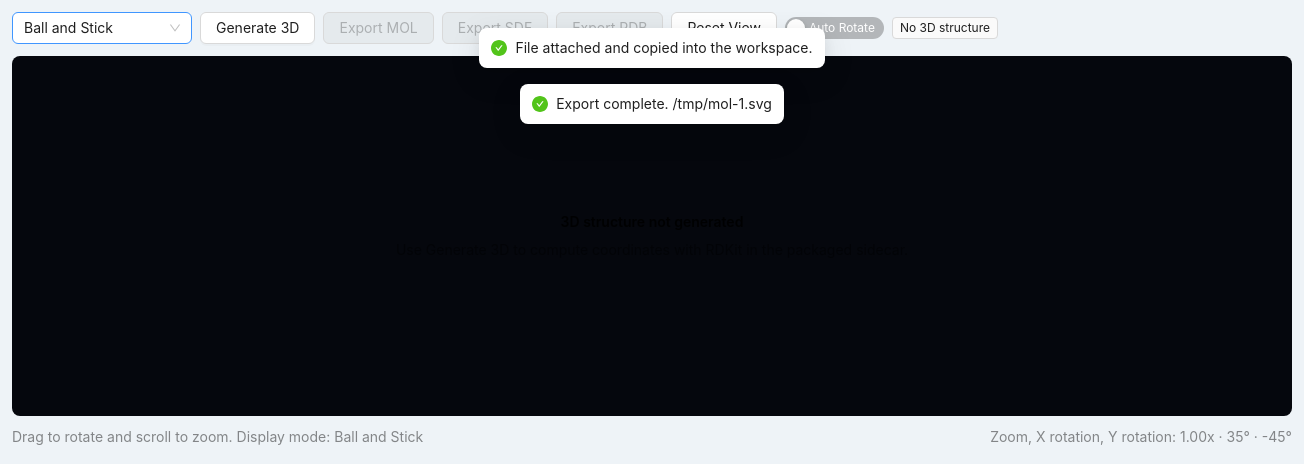
Test: MoleculeViewer3D › renders only after the sidecar returns readable coordinates
What coordinates should you click on to do the following:
click the button "Generate 3D"
I would click on:
 (258, 28)
Its box is [200,12,316,44].
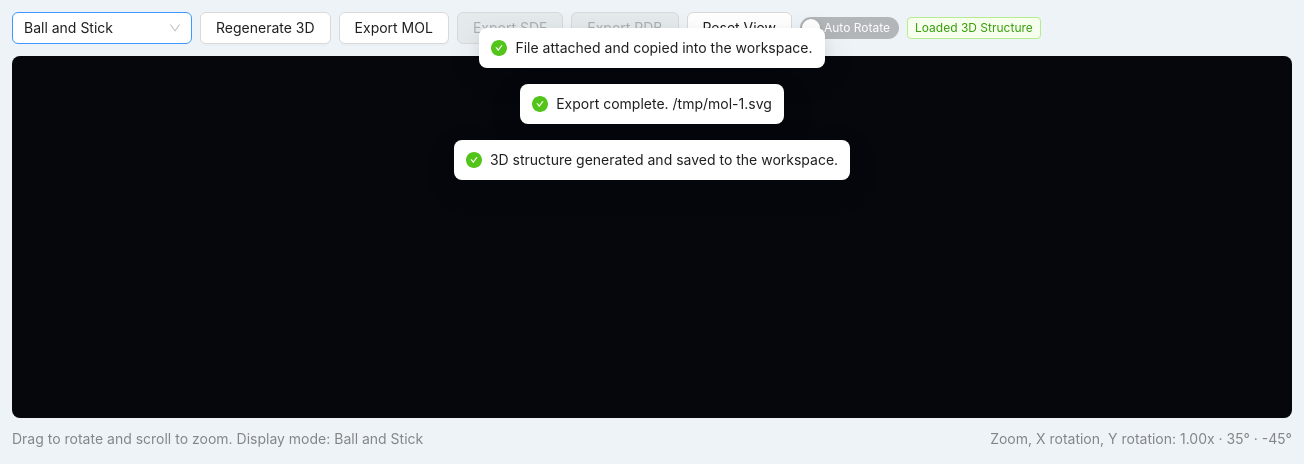
Expected: the text "Loaded 3D Structure" is shown, [907,17,1041,39]
